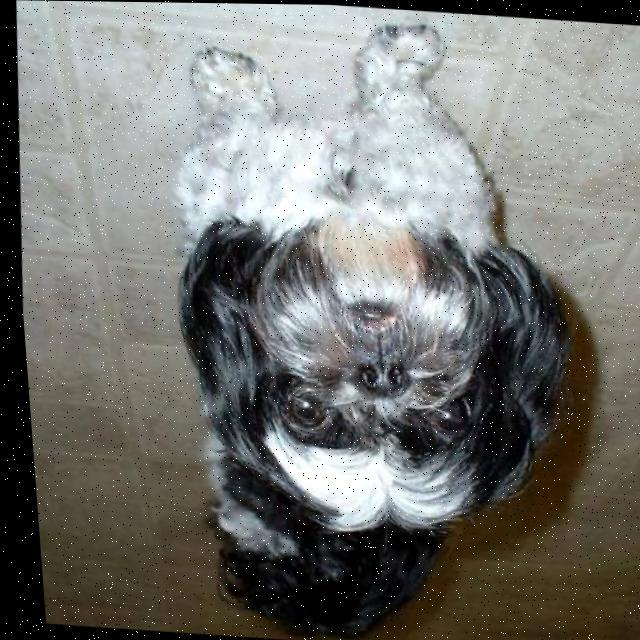dogs: (112, 1, 597, 633)
